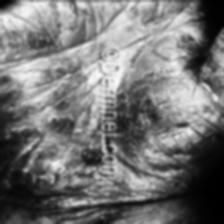Non-Cancerous Skin Condition: (1, 50, 82, 148), (85, 154, 101, 166), (176, 119, 190, 128), (148, 110, 156, 120)
